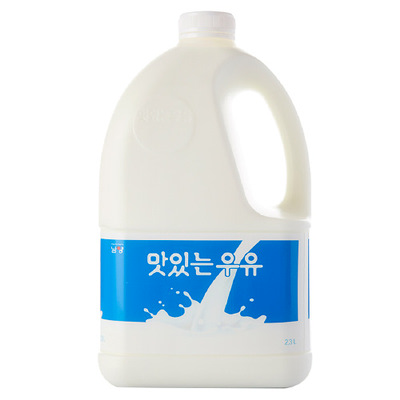milk: (99, 11, 313, 389)
